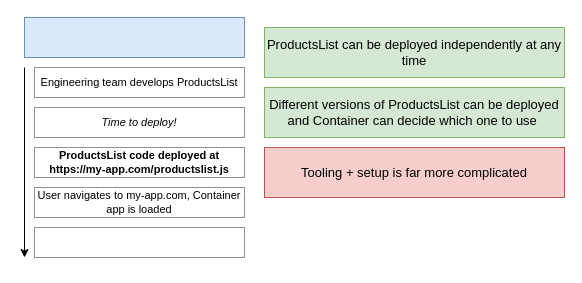
This 582x283 diagram has some shape labels left out. Here are the shapes that lost their labels. From the top down, the centre of each, then its label:
point (134, 37): Run-Time Integration
point (139, 242): Container app fetches productslist.js and executes it
